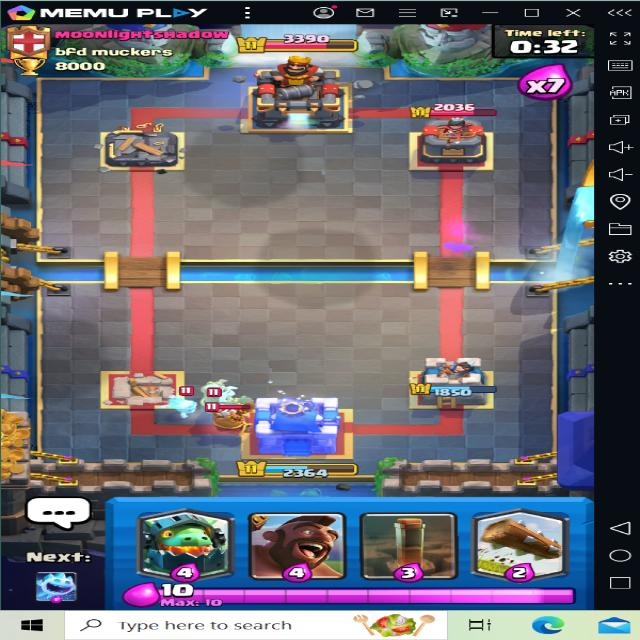monk: (195, 398, 272, 435)
